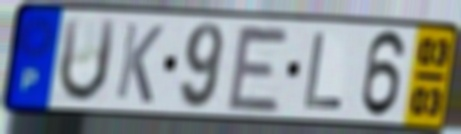6: (358, 28, 407, 120)
9: (176, 20, 231, 112)
E: (224, 21, 293, 115)
K: (112, 19, 167, 106)
L: (301, 30, 346, 112)
U: (55, 15, 120, 107)
